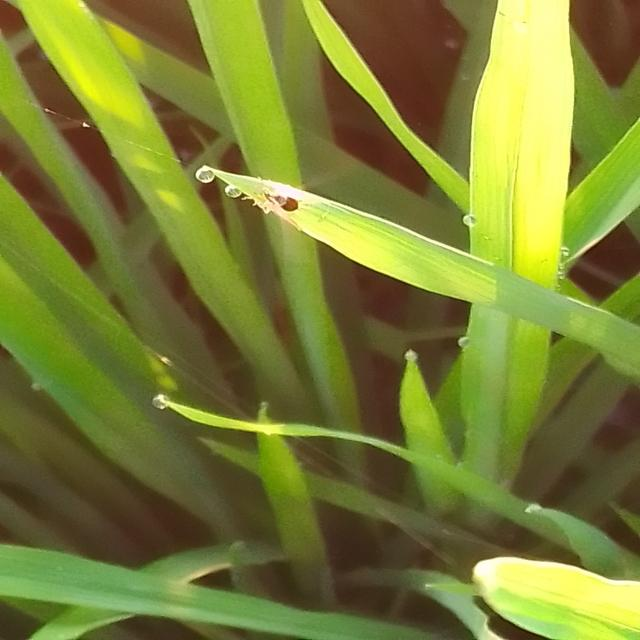green leaf hopper: (245, 157, 325, 250)
